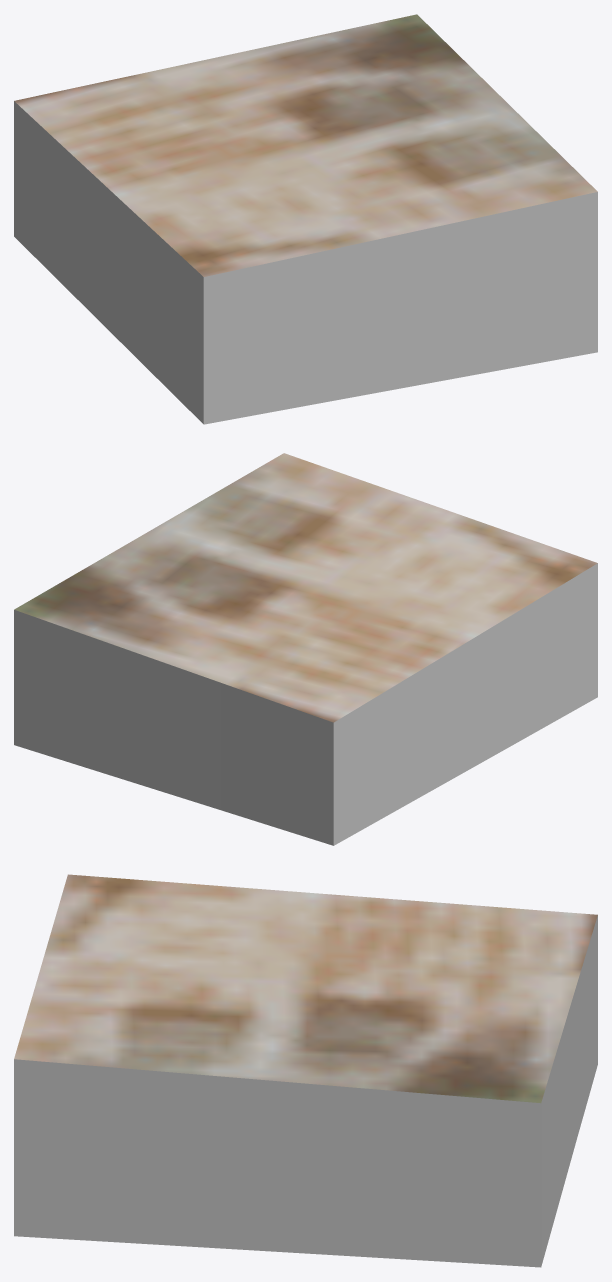
Rendered from DEBW_0010007Tx5p.gltf.
The picture shows the model from 3 angles, top to bottom: view 1: azimuth 30°, elevation 25°; view 2: azimuth 150°, elevation 25°; view 3: azimuth 270°, elevation 25°; orthographic projection. The views are drawn at different scales.
Parts seen in each view (by area): view 1: Z_UP; view 2: Z_UP; view 3: Z_UP.
Part boxes in pixels (left/top/right/bottom): Z_UP: left=14, top=14, right=597, bottom=424; Z_UP: left=14, top=453, right=597, bottom=845; Z_UP: left=14, top=874, right=597, bottom=1267.
Bounding box in the file's own units: 9.5 × 3.4 × 10.18.
Materials: 2 (1 with a texture image).
